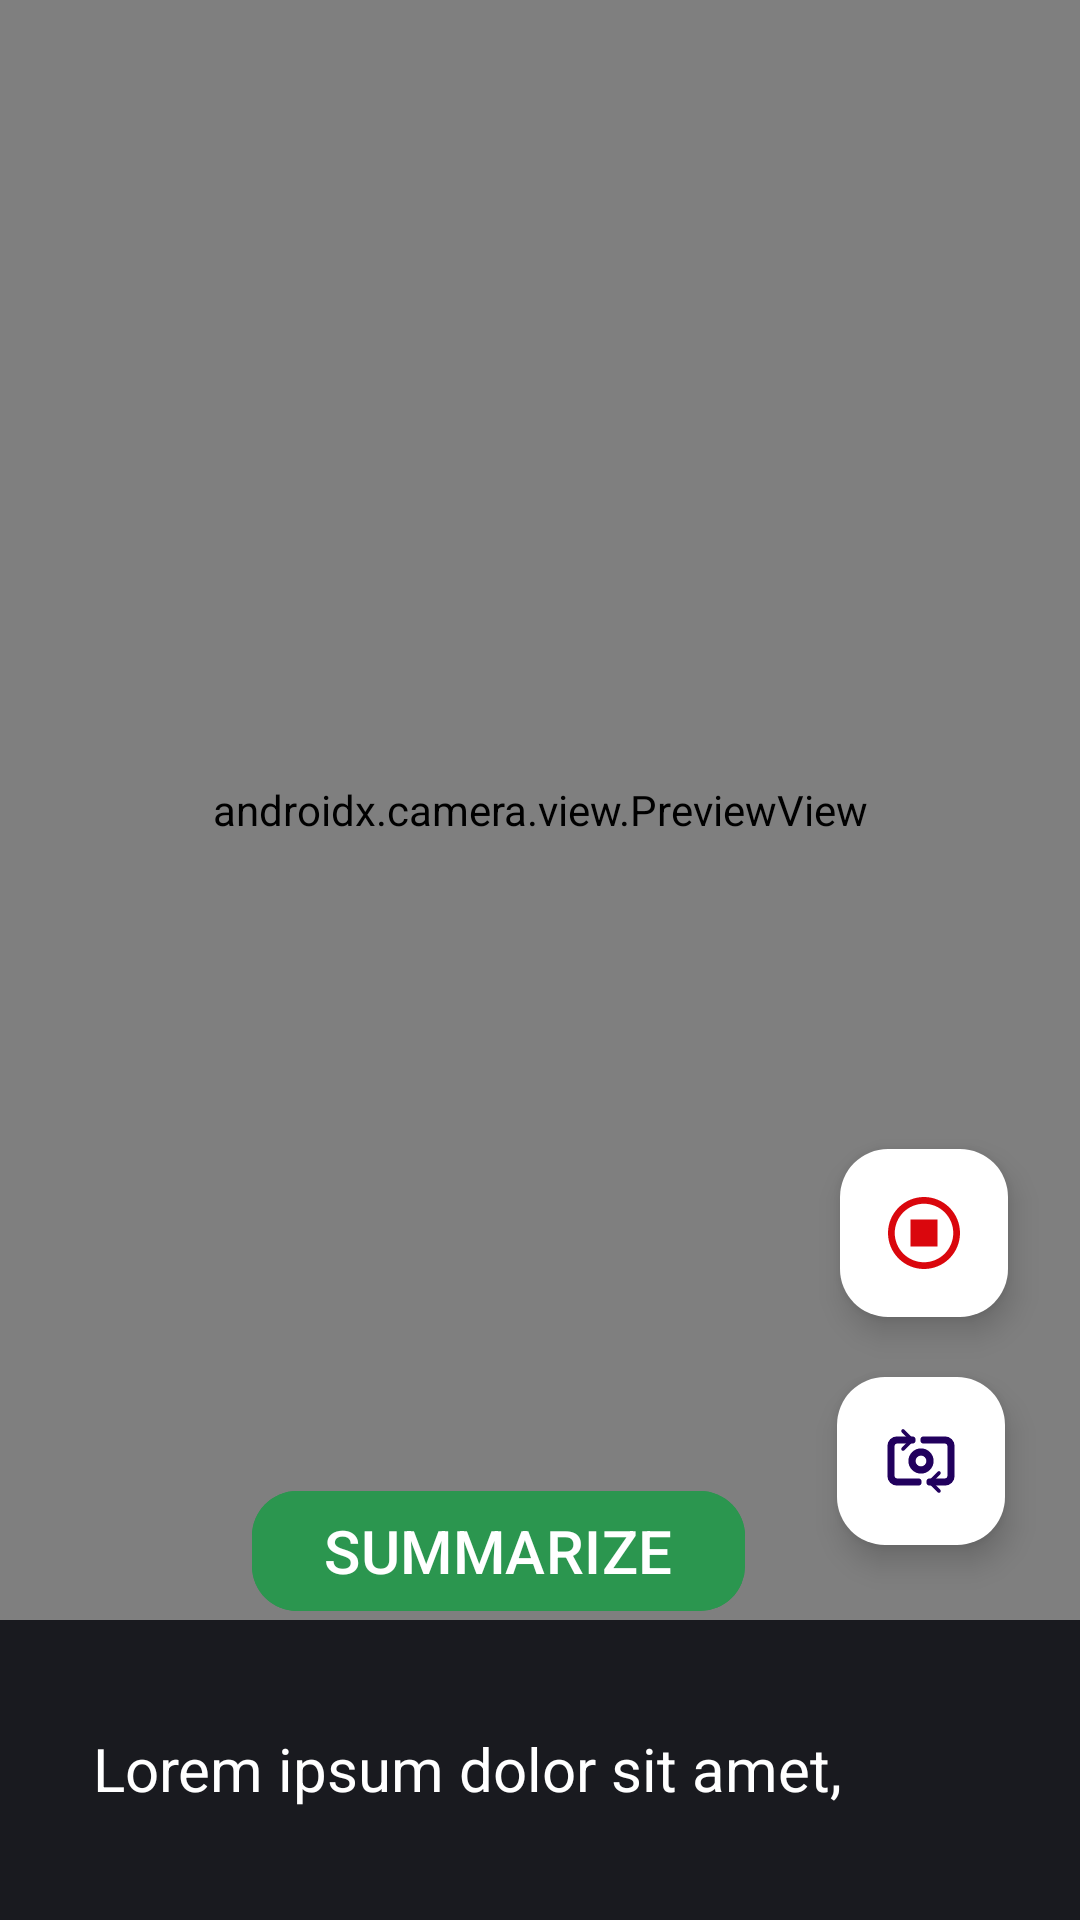

Icon click points for this 1080 x 1920 phone screenshot, format [x,y]:
Flip Camera: [921,1461]
stop: [924,1233]
